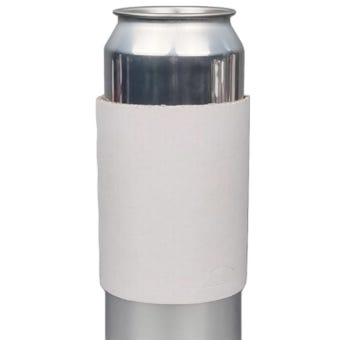paper: (92, 3, 255, 340)
